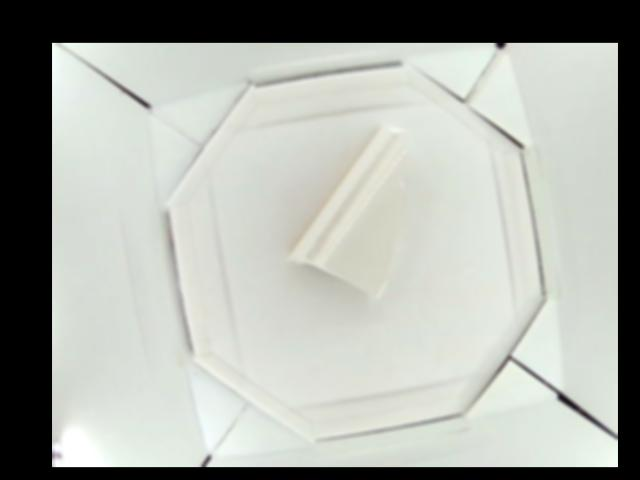China: (283, 125, 406, 297)
